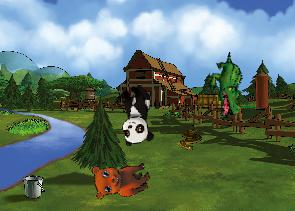bear: (86, 148, 154, 207)
crocodile: (199, 51, 256, 120)
panda: (116, 83, 155, 146)
